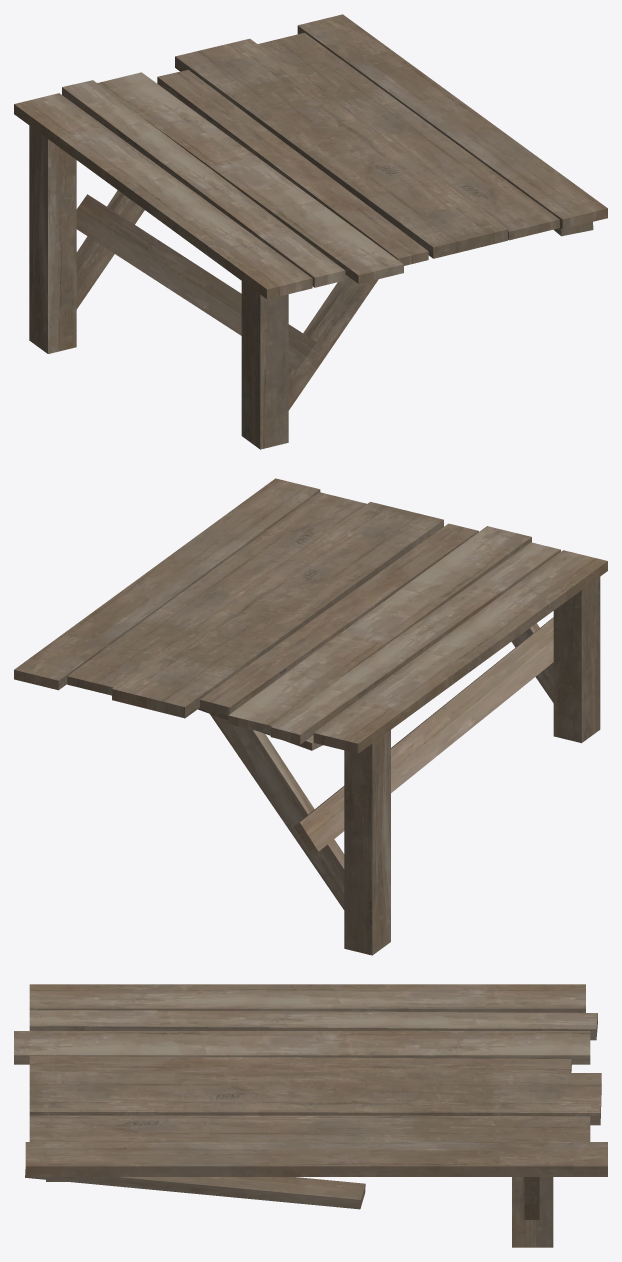
3 renders of one model, top to bottom at view 1: azimuth 30°, elevation 25°; view 2: azimuth 150°, elevation 25°; view 3: azimuth 270°, elevation 25°, orthographic. The views are drawn at different scales.
Parts seen in each view (by area): view 1: body0_model0_lod0_mesh0; view 2: body0_model0_lod0_mesh0; view 3: body0_model0_lod0_mesh0.
Part boxes in pixels (x1=…): body0_model0_lod0_mesh0: x1=14, y1=14, x2=607, y2=449; body0_model0_lod0_mesh0: x1=14, y1=478, x2=607, y2=955; body0_model0_lod0_mesh0: x1=14, y1=984, x2=607, y2=1247.
Size of the model in its own units: 137 by 84.08 by 182.
Materials: 1 (1 with a texture image).
